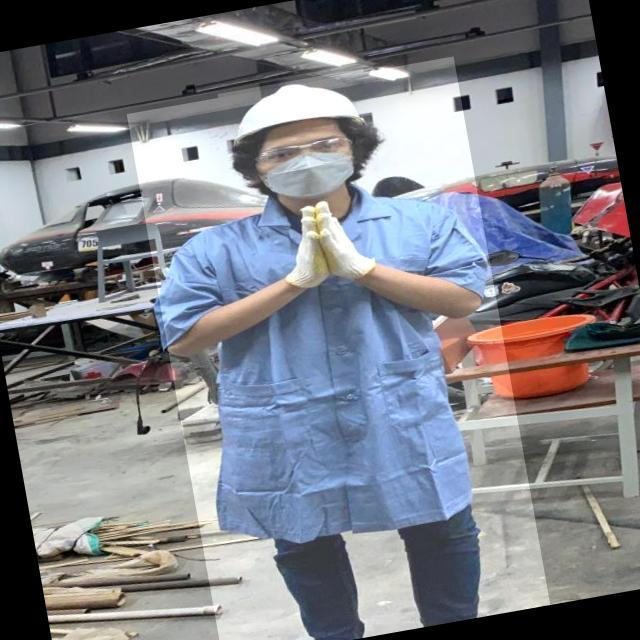Gloves: (323, 190, 375, 295), (293, 189, 320, 297)
Helmet: (217, 68, 373, 153)
Person: (130, 39, 513, 640)
no-vest: (144, 197, 502, 548)
